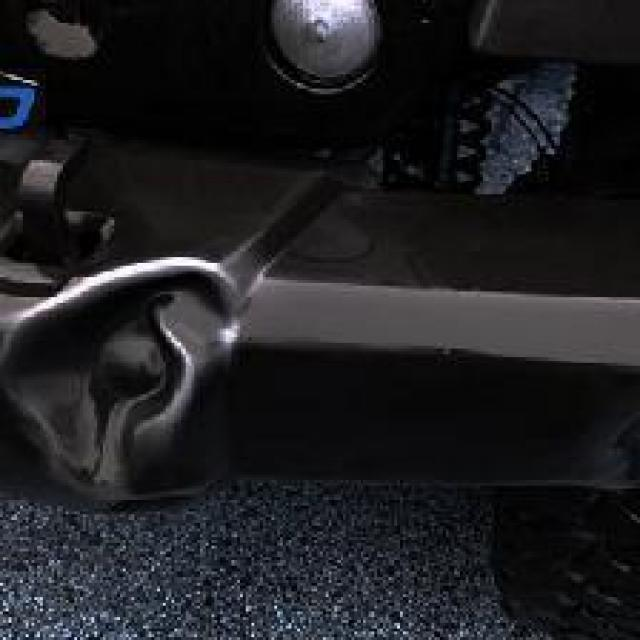damaged: (6, 211, 283, 523)
